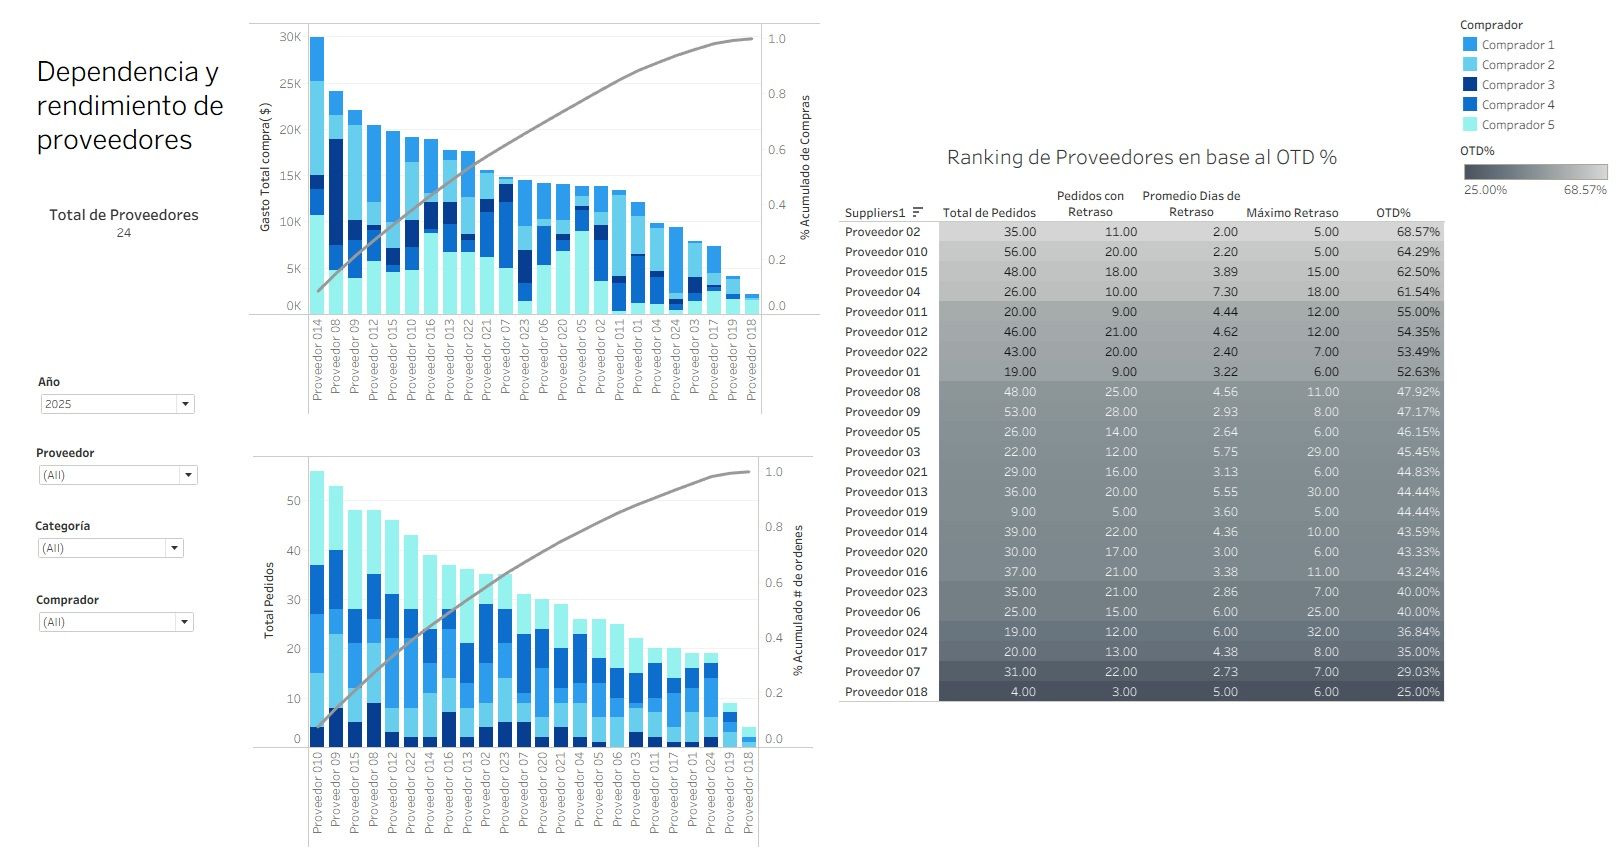

Layout of this report page (visuals, bound fields, positions):
{"tool":"tableau","page":{"name":"Proveedor","canvas":[1600,900],"ordinal":4},"visuals":[{"type":"legend","title":"GastoxProvee","param":"[federated.1c9wdf00njrirr15ikbx604gjcok].[none:Buyer:nk]","box":[1432,8,160,126]},{"type":"text","box":[10,9,198,184]},{"type":"worksheet","title":"GastoxProvee","mark":"Bar","rows":["Purchasing Volume (total price)","Calculation_0931873540182017"],"cols":["Suppliers"],"box":[225,19,572,392]},{"type":"worksheet","title":"RankingProv","mark":"Square","rows":["Suppliers"],"box":[815,134,618,607]},{"type":"legend","title":"RankingProv","param":"[federated.1c9wdf00njrirr15ikbx604gjcok].[usr:Calculation_1792794420641794:qk]","box":[1432,134,160,65]},{"type":"parameter","param":"[Parameters].[Parameter 1]","box":[14,369,160,44]},{"type":"filter","title":"GastoxProvee","param":"[federated.1c9wdf00njrirr15ikbx604gjcok].[none:Suppliers:nk]","box":[12,440,165,54]},{"type":"worksheet","title":"NOxProvee","mark":"Bar","rows":["Calculation_0987948282880003","%AcumuladoCompras (copy)_1681465669824514"],"cols":["Suppliers"],"box":[229,452,561,392]},{"type":"filter","title":"GastoxProvee","param":"[federated.1c9wdf00njrirr15ikbx604gjcok].[none:Purchasing Category:nk]","box":[11,513,152,59]},{"type":"filter","title":"GastoxProvee","param":"[federated.1c9wdf00njrirr15ikbx604gjcok].[none:Buyer:nk]","box":[12,587,161,55]}]}

Visuals, with their boxes on the page's 1600x900 design canvas (x1, y1, x2, y2). These are canvas units, not pixel positions in the 1621x864 screenshot, which may show the page scaled, cropped or inside an application window:
"GastoxProvee" legend: [left=1432, top=8, right=1592, bottom=134]
text: [left=10, top=9, right=208, bottom=193]
"GastoxProvee" worksheet (Bar marks): [left=225, top=19, right=797, bottom=411]
"RankingProv" worksheet (Square marks): [left=815, top=134, right=1433, bottom=741]
"RankingProv" legend: [left=1432, top=134, right=1592, bottom=199]
parameter: [left=14, top=369, right=174, bottom=413]
"GastoxProvee" filter: [left=12, top=440, right=177, bottom=494]
"NOxProvee" worksheet (Bar marks): [left=229, top=452, right=790, bottom=844]
"GastoxProvee" filter: [left=11, top=513, right=163, bottom=572]
"GastoxProvee" filter: [left=12, top=587, right=173, bottom=642]
